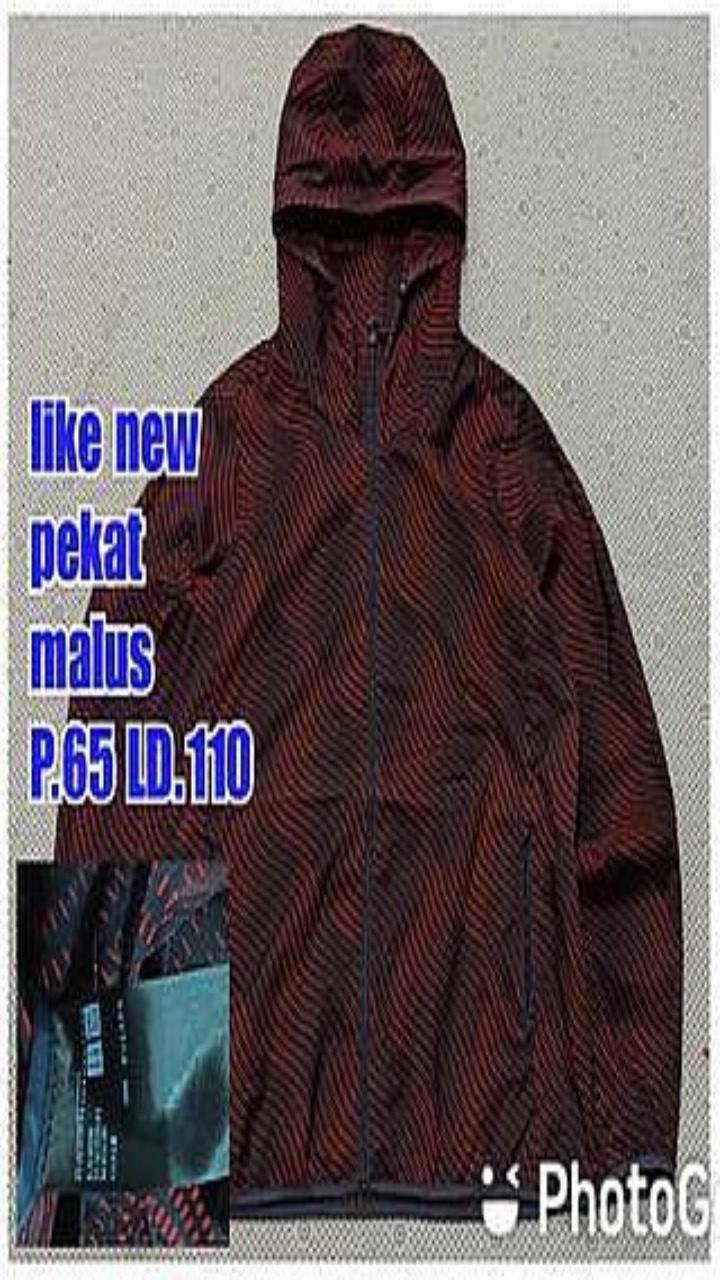Sports_Jacket: (56, 24, 681, 1215)
